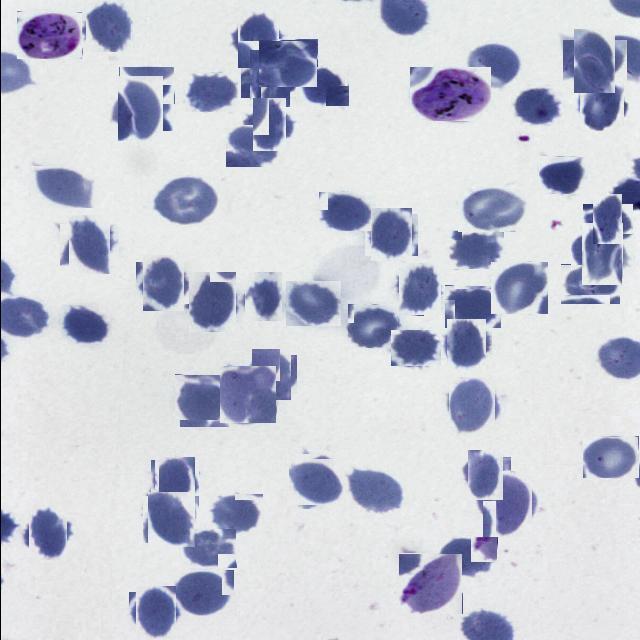difficult: (409, 67, 490, 121), (398, 553, 462, 614), (16, 12, 82, 59)
red blood cell: (151, 175, 220, 225), (478, 475, 536, 533), (219, 366, 276, 423), (457, 187, 526, 232), (490, 261, 548, 314), (112, 80, 166, 136), (184, 274, 238, 328), (174, 374, 228, 428), (171, 570, 233, 616), (258, 40, 317, 88), (445, 380, 498, 433), (345, 468, 405, 514), (568, 35, 620, 88), (464, 43, 522, 90), (576, 228, 628, 280), (30, 166, 94, 208), (144, 494, 196, 545), (290, 456, 341, 507), (285, 280, 341, 326), (436, 536, 497, 578), (63, 220, 114, 270), (138, 258, 188, 308), (444, 285, 501, 328), (232, 15, 282, 64), (83, 0, 132, 50), (560, 264, 620, 304), (576, 80, 625, 128), (582, 436, 638, 478), (244, 54, 293, 102), (395, 265, 443, 313), (366, 211, 414, 259), (208, 493, 263, 534), (318, 192, 374, 232), (448, 230, 504, 270), (180, 528, 236, 568), (225, 125, 278, 167), (24, 509, 71, 556), (132, 588, 178, 636), (347, 304, 397, 348), (184, 72, 238, 112), (510, 86, 564, 126), (294, 66, 348, 106), (118, 66, 174, 104), (442, 322, 488, 368), (248, 352, 292, 398), (58, 305, 108, 344), (152, 458, 196, 502), (240, 275, 284, 319), (246, 103, 290, 146), (538, 156, 586, 194), (464, 454, 506, 496), (390, 331, 440, 366), (587, 199, 627, 239)
